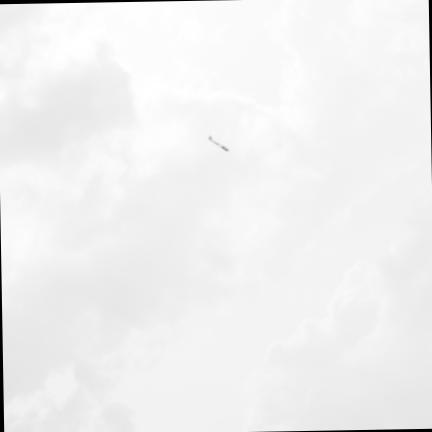Shahed: (208, 136, 228, 150)
